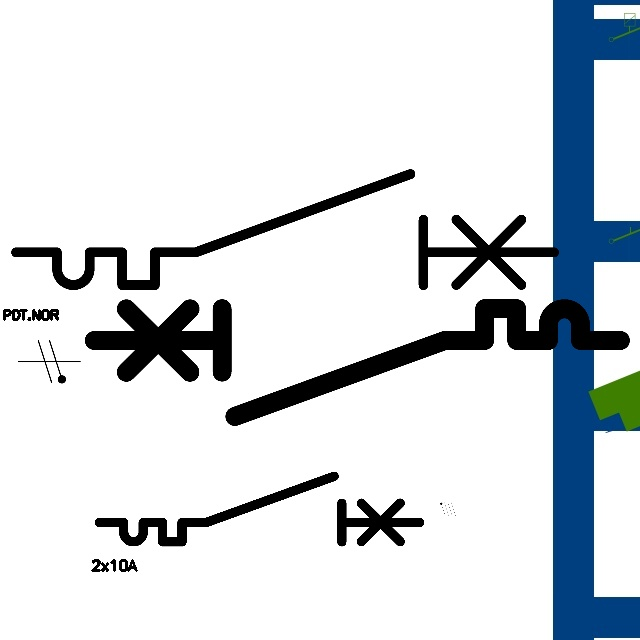interruptor_termomagnetico: (2, 160, 568, 299), (80, 295, 633, 430), (91, 468, 428, 550)
